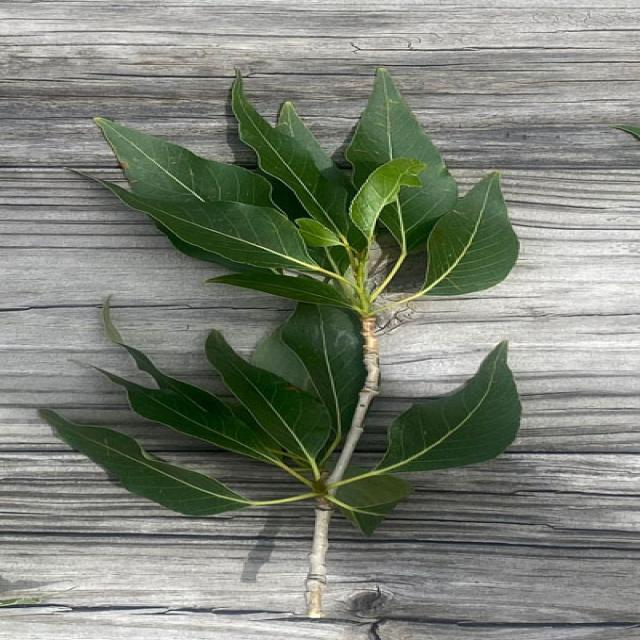Populus angustifolia: (26, 46, 546, 630)
